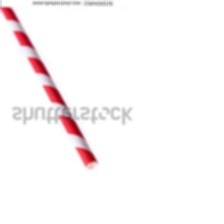drinking_straw: (0, 3, 102, 175)
